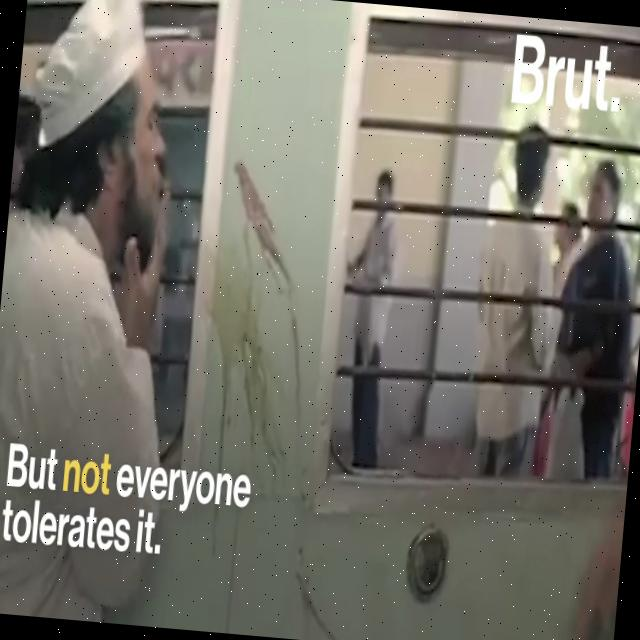spit: (28, 0, 268, 315)
